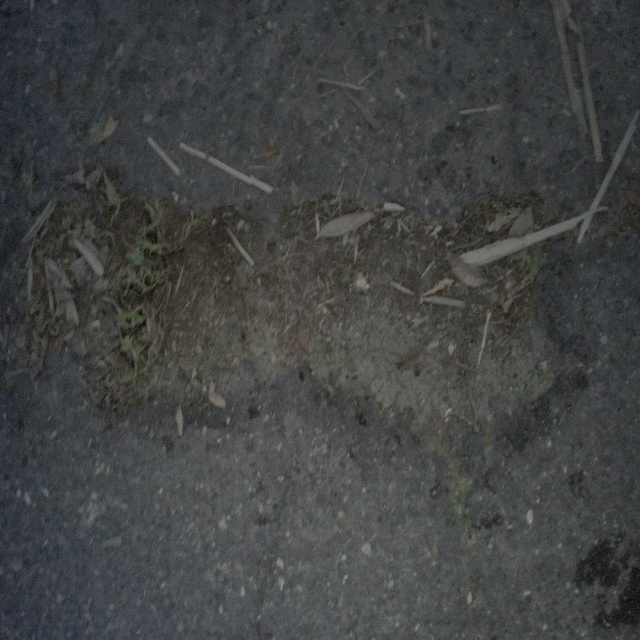pothole: (19, 176, 555, 452)
